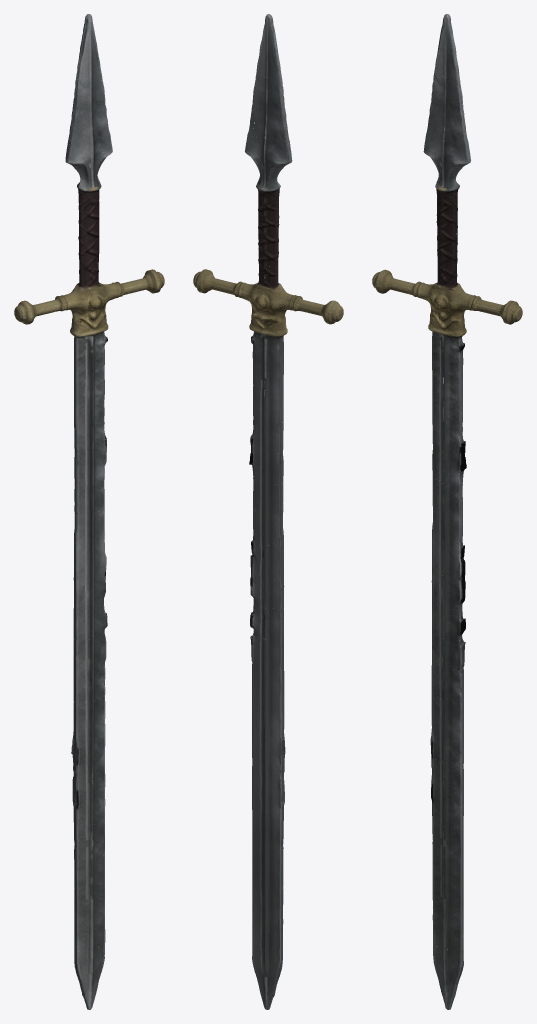
The model's file is w_marsh_blade.glb.
The picture shows the model from 3 angles, left to right: view 1: azimuth 30°, elevation 25°; view 2: azimuth 150°, elevation 25°; view 3: azimuth 330°, elevation 25°; orthographic projection.
Visible parts, largest first — view 1: geometry_0; view 2: geometry_0; view 3: geometry_0.
Part boxes in pixels (x1,y1,x2,y2): geometry_0: [14, 14, 164, 1009]; geometry_0: [193, 14, 343, 1009]; geometry_0: [372, 14, 522, 1009].
Bounding box in the file's own units: 0.2291 × 1.5 × 0.0469.
1 material, 1 textured.
